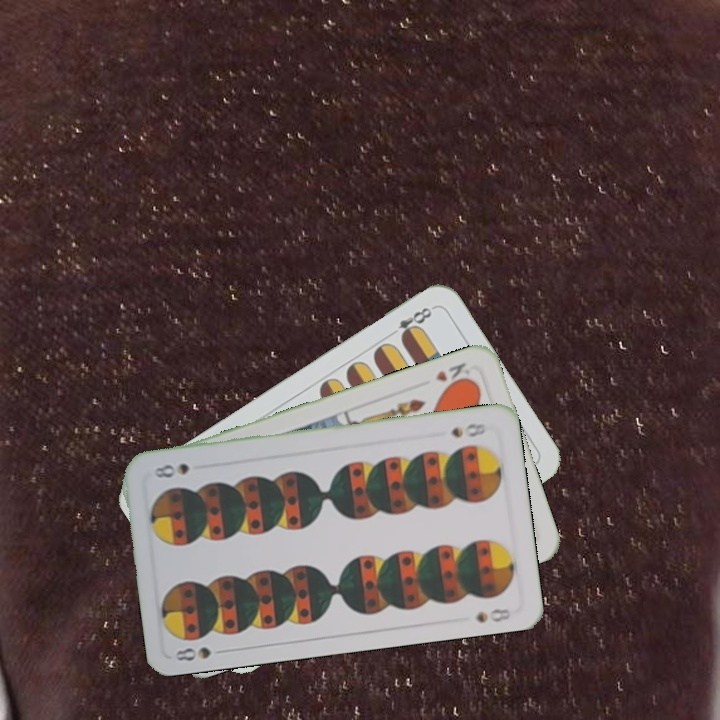E8: (384, 302, 437, 343)
HK: (431, 358, 474, 391)
S8: (171, 643, 230, 664), (447, 419, 488, 441)
